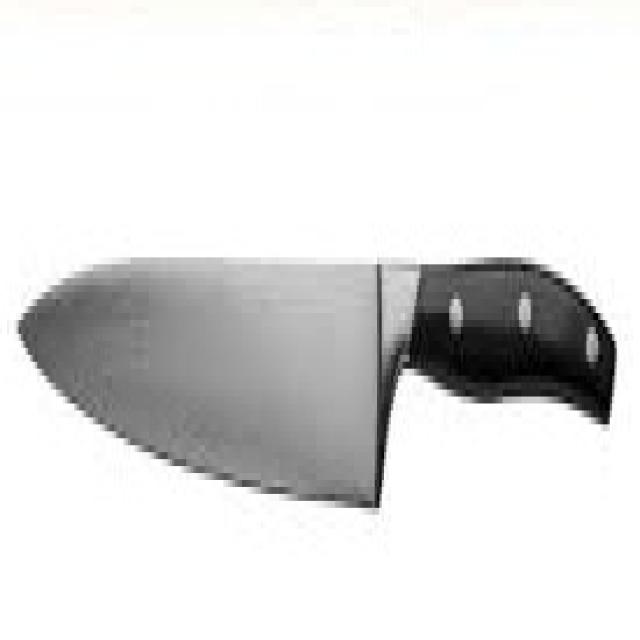knife: (13, 211, 624, 556)
